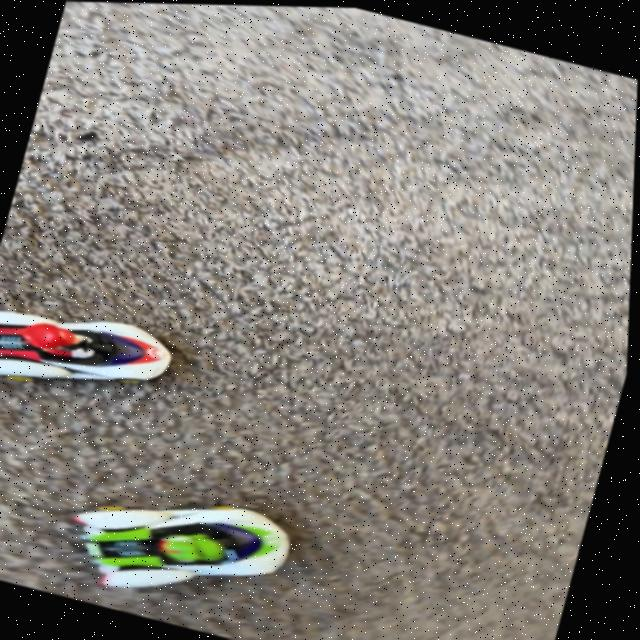mario: (0, 284, 199, 428)
yoshi: (40, 451, 323, 640)
